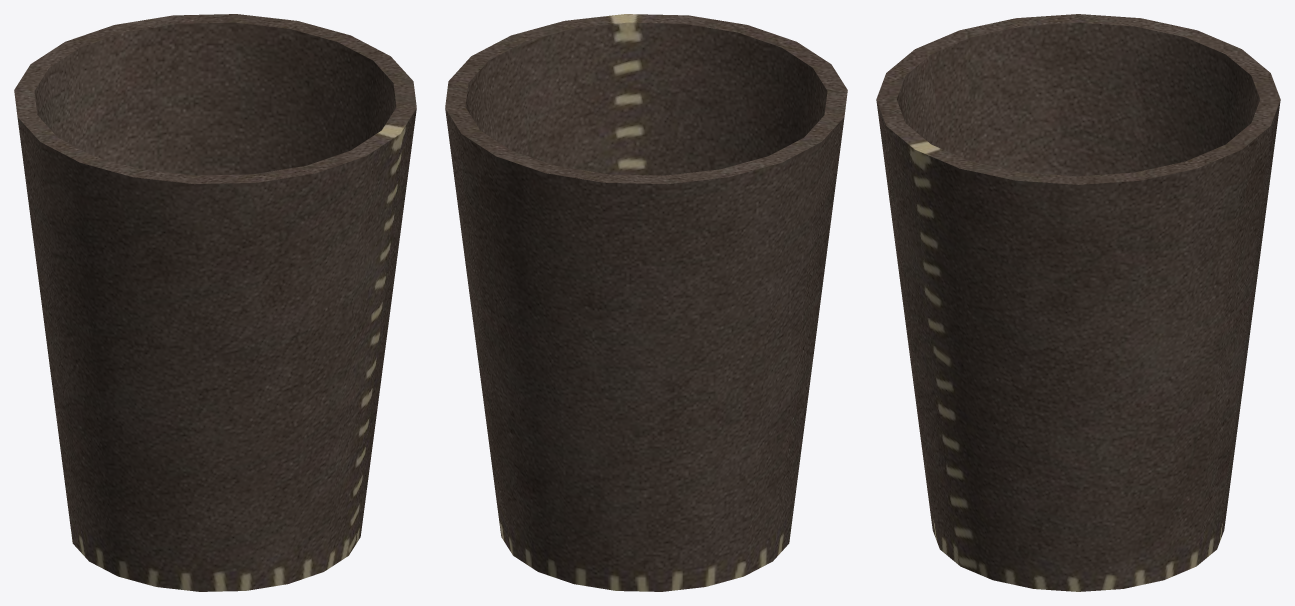
The model's file is cup_new.glb.
3 views of the same model, side by side, from view 1: azimuth 30°, elevation 25°; view 2: azimuth 150°, elevation 25°; view 3: azimuth 270°, elevation 25° (orthographic).
Parts seen in each view (by area): view 1: pCylinder1; view 2: pCylinder1; view 3: pCylinder1.
Part boxes in pixels (x1,y1,x2,y2): pCylinder1: (14, 14, 416, 591); pCylinder1: (445, 14, 847, 591); pCylinder1: (876, 14, 1280, 591).
Size of the model in its own units: 4 by 4.7 by 4.
Materials: 1 (1 with a texture image).
